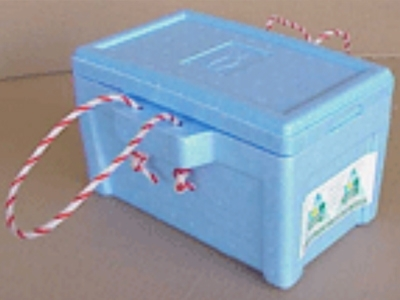Foam Box: (67, 5, 396, 293)
